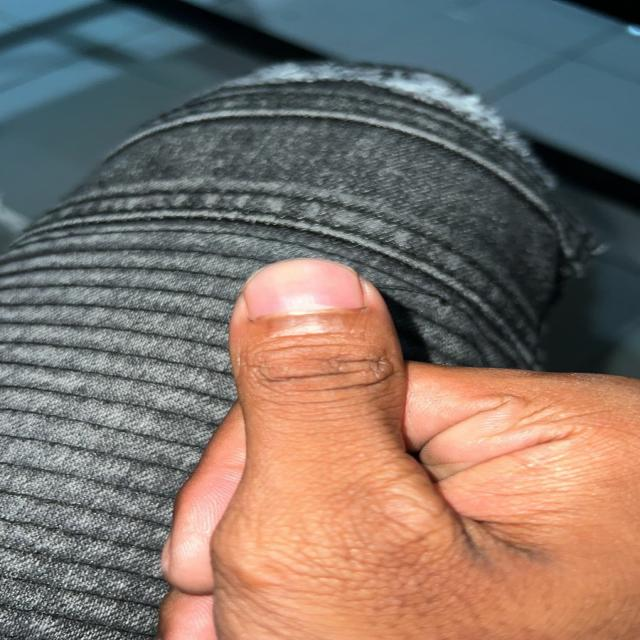sehat: (244, 259, 362, 320)
